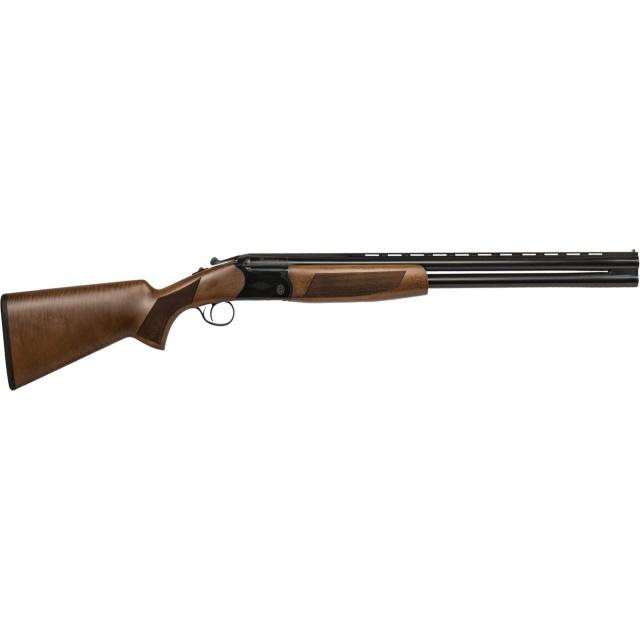ShotGun: (1, 251, 638, 388)
